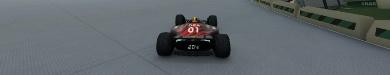Car: (155, 14, 230, 57)
obstacles-Borders: (250, 0, 389, 53)
